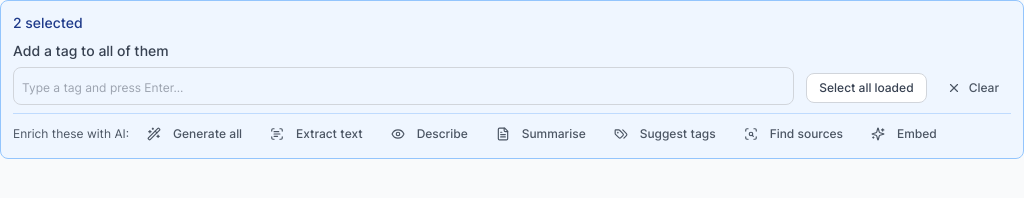
SelectionBar enrichment › points at Settings when nothing is configured
Click the button "Describe": (429, 134) x1=381 y1=122 x2=478 y2=146
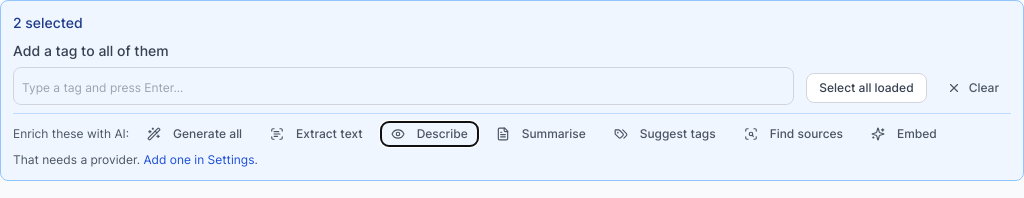
Expected: the link "Add one in Settings" is shown, x1=143 y1=152 x2=254 y2=167
